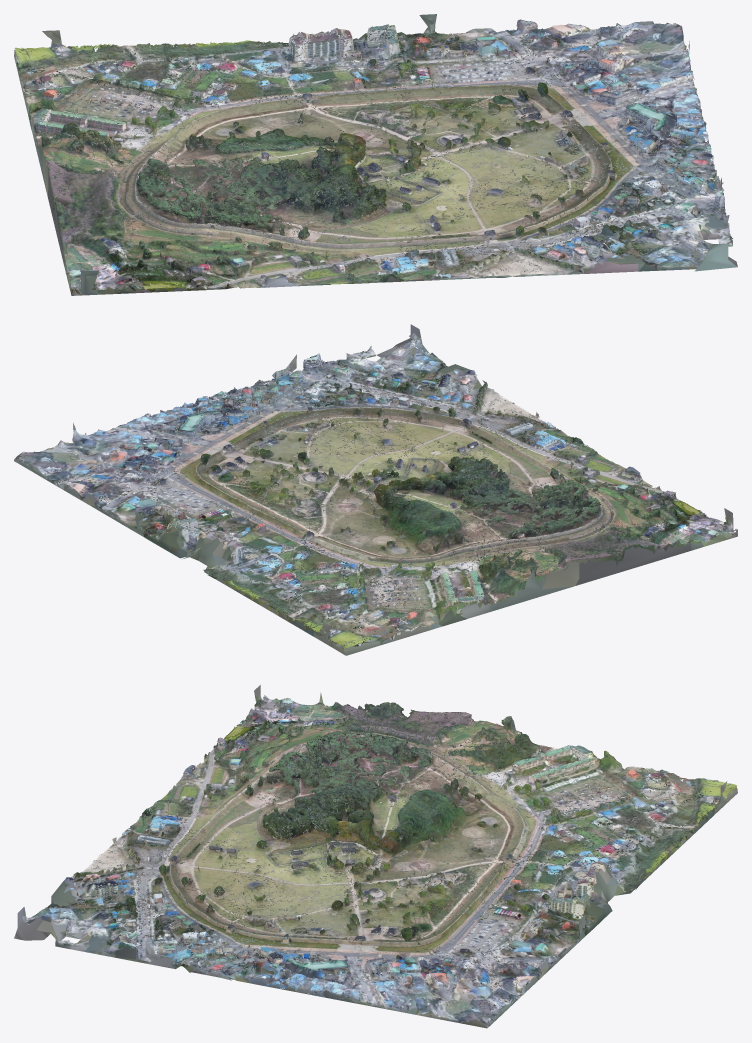
The model's file is scan_mini.glb.
3 renders of one model, top to bottom at view 1: azimuth 30°, elevation 25°; view 2: azimuth 150°, elevation 25°; view 3: azimuth 270°, elevation 25°, orthographic. The views are drawn at different scales.
Visible parts, largest first — view 1: Object_15, Object_22, Object_4, Object_2, Object_11, Object_21, Object_13, Object_3, Object_16, Object_12, Object_26, Object_23 (+15 smaller); view 2: Object_21, Object_22, Object_15, Object_2, Object_4, Object_23, Object_11, Object_13, Object_24, Object_3, Object_16, Object_25 (+15 smaller); view 3: Object_22, Object_2, Object_15, Object_21, Object_4, Object_23, Object_11, Object_13, Object_12, Object_3, Object_26, Object_24 (+15 smaller).
Part boxes in pixels (x1,y1,x2,y2): Object_15: (343, 146, 737, 282); Object_22: (15, 30, 459, 158); Object_4: (294, 19, 686, 153); Object_2: (259, 25, 709, 158); Object_11: (59, 144, 602, 295); Object_21: (14, 30, 292, 194); Object_13: (342, 141, 731, 263); Object_3: (274, 14, 543, 153); Object_16: (343, 66, 737, 283); Object_12: (343, 146, 594, 267); Object_26: (287, 60, 708, 154); Object_23: (20, 42, 456, 153); Object_21: (223, 502, 574, 655); Object_22: (225, 476, 544, 655); Object_15: (212, 324, 593, 462); Object_2: (127, 395, 420, 584); Object_4: (14, 443, 321, 548); Object_23: (226, 476, 541, 641); Object_11: (331, 391, 737, 551); Object_13: (214, 355, 551, 489); Object_24: (195, 398, 545, 626); Object_3: (94, 467, 389, 575); Object_16: (80, 328, 597, 462); Object_25: (146, 396, 415, 579); Object_22: (350, 721, 737, 899); Object_2: (244, 814, 645, 983); Object_15: (14, 802, 321, 983); Object_21: (404, 716, 736, 878); Object_4: (350, 863, 562, 1028); Object_23: (355, 725, 684, 895); Object_11: (106, 685, 386, 921); Object_13: (59, 811, 364, 977); Object_12: (169, 806, 374, 927); Object_3: (352, 832, 634, 971); Object_26: (253, 842, 467, 1010); Object_24: (251, 730, 645, 978).
Size of the model in its own units: 34.88 by 1.79 by 32.8.
Materials: 1 (1 with a texture image).
